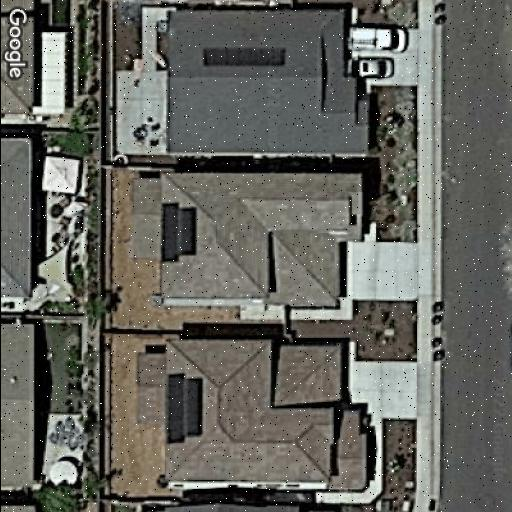solar-panel: (166, 372, 208, 444), (160, 198, 202, 268), (198, 44, 286, 72)
